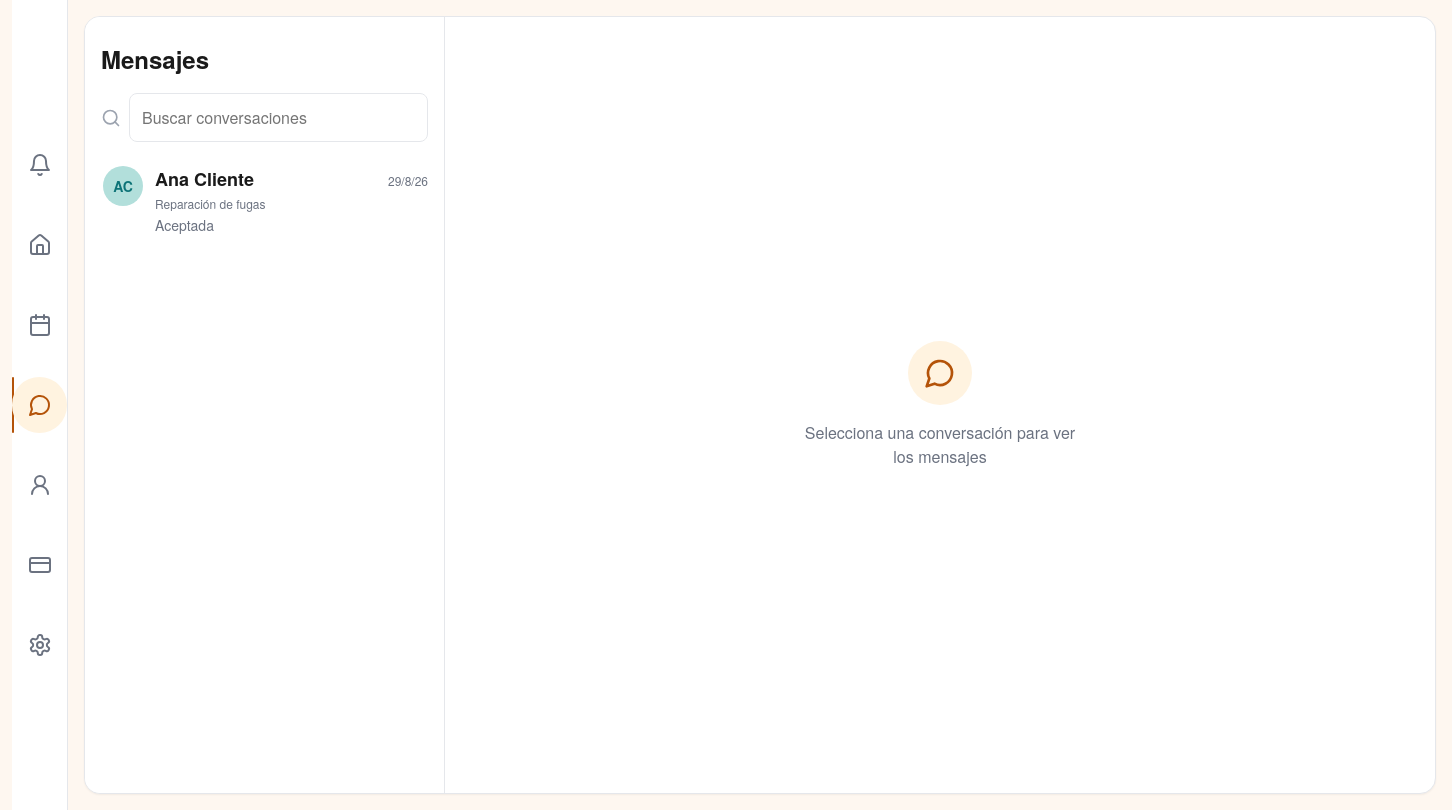
Scenario: Pantalla de mensajes › abre el hilo al elegir una conversación y distingue propios de ajenos
Click the button "AC Ana Cliente 29/8/26 Reparación de fugas Aceptada" at [264, 201], box [85, 154, 444, 248]
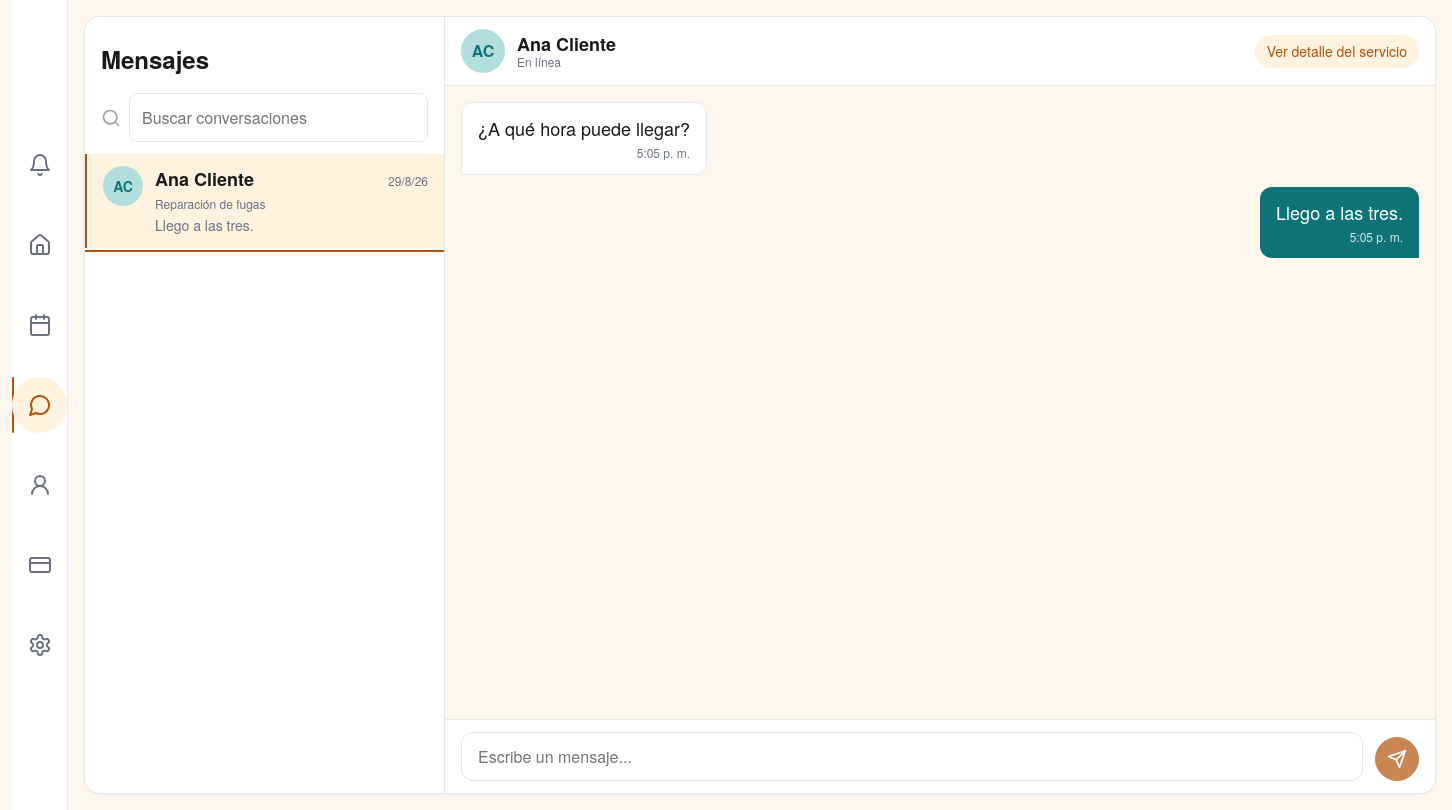
Check: the element showing "¿A qué hora puede llegar? 5:05 p. m." is shown, box [461, 102, 707, 175]
Check: the element showing "Llego a las tres. 5:05 p. m." is shown, box [1260, 187, 1419, 258]
Check: the heading "Ana Cliente" is shown, box [517, 30, 616, 56]
